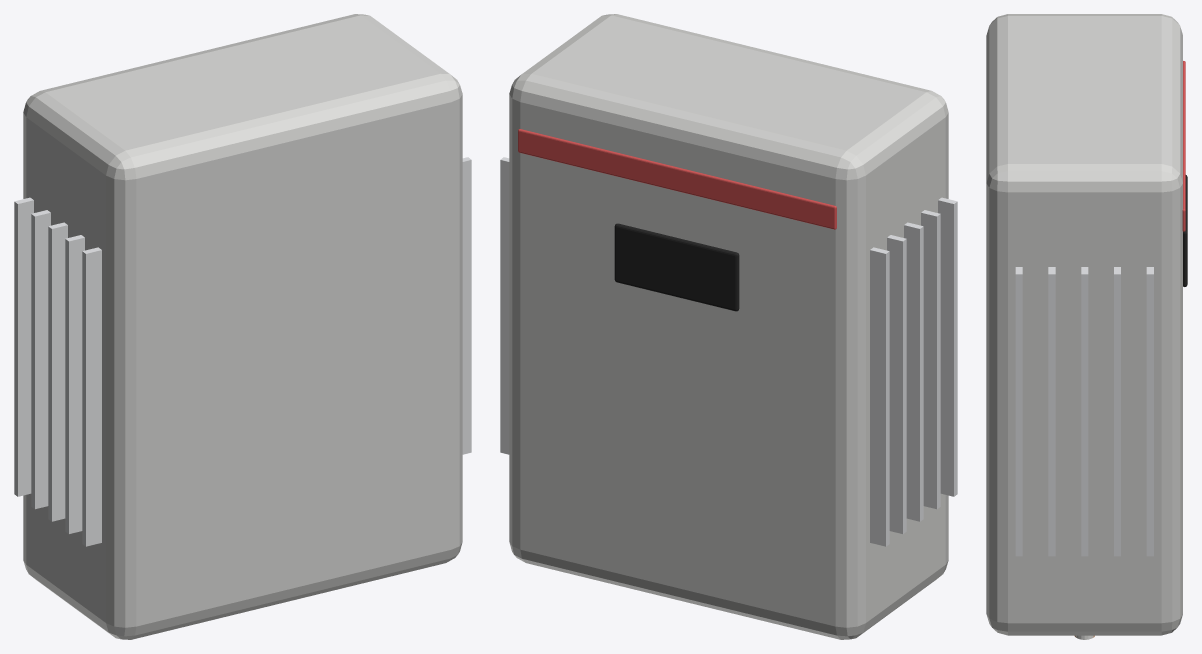
The model's file is srne-ml4860.glb.
The picture shows the model from 3 angles, left to right: view 1: azimuth 30°, elevation 25°; view 2: azimuth 150°, elevation 25°; view 3: azimuth 270°, elevation 25°; orthographic projection. The views are drawn at different scales.
Visible parts, largest first — view 1: body, fin--1-0, fin--1-2, fin--1-1, fin--1-3, fin--1-4, fin-1-0; view 2: body, stripe, display, fin--1-4, fin--1-2, fin--1-3, fin--1-1, fin--1-0, fin-1-4; view 3: body, fin-1-1, fin-1-0, fin-1-2, fin-1-4, fin-1-3, stripe, display.
Part boxes in pixels (x1,y1,x2,y2): body: (23, 14, 462, 639); fin--1-0: (82, 247, 101, 546); fin--1-2: (48, 222, 67, 521); fin--1-1: (65, 235, 84, 533); fin--1-3: (31, 210, 50, 509); fin--1-4: (14, 197, 33, 496); fin-1-0: (462, 157, 471, 454); body: (509, 14, 948, 639); stripe: (518, 129, 836, 229); display: (614, 223, 739, 311); fin--1-4: (870, 247, 889, 546); fin--1-2: (904, 222, 923, 521); fin--1-3: (887, 235, 906, 533); fin--1-1: (921, 210, 940, 509); fin--1-0: (938, 197, 957, 496); fin-1-4: (500, 157, 509, 454); body: (986, 14, 1182, 635); fin-1-1: (1048, 267, 1055, 556); fin-1-0: (1015, 267, 1022, 556); fin-1-2: (1081, 267, 1088, 556); fin-1-4: (1146, 267, 1153, 556); fin-1-3: (1114, 267, 1120, 556); stripe: (1182, 61, 1185, 231); display: (1183, 175, 1187, 286).
Bounding box in the file's own units: 0.24 × 0.308 × 0.1125.
